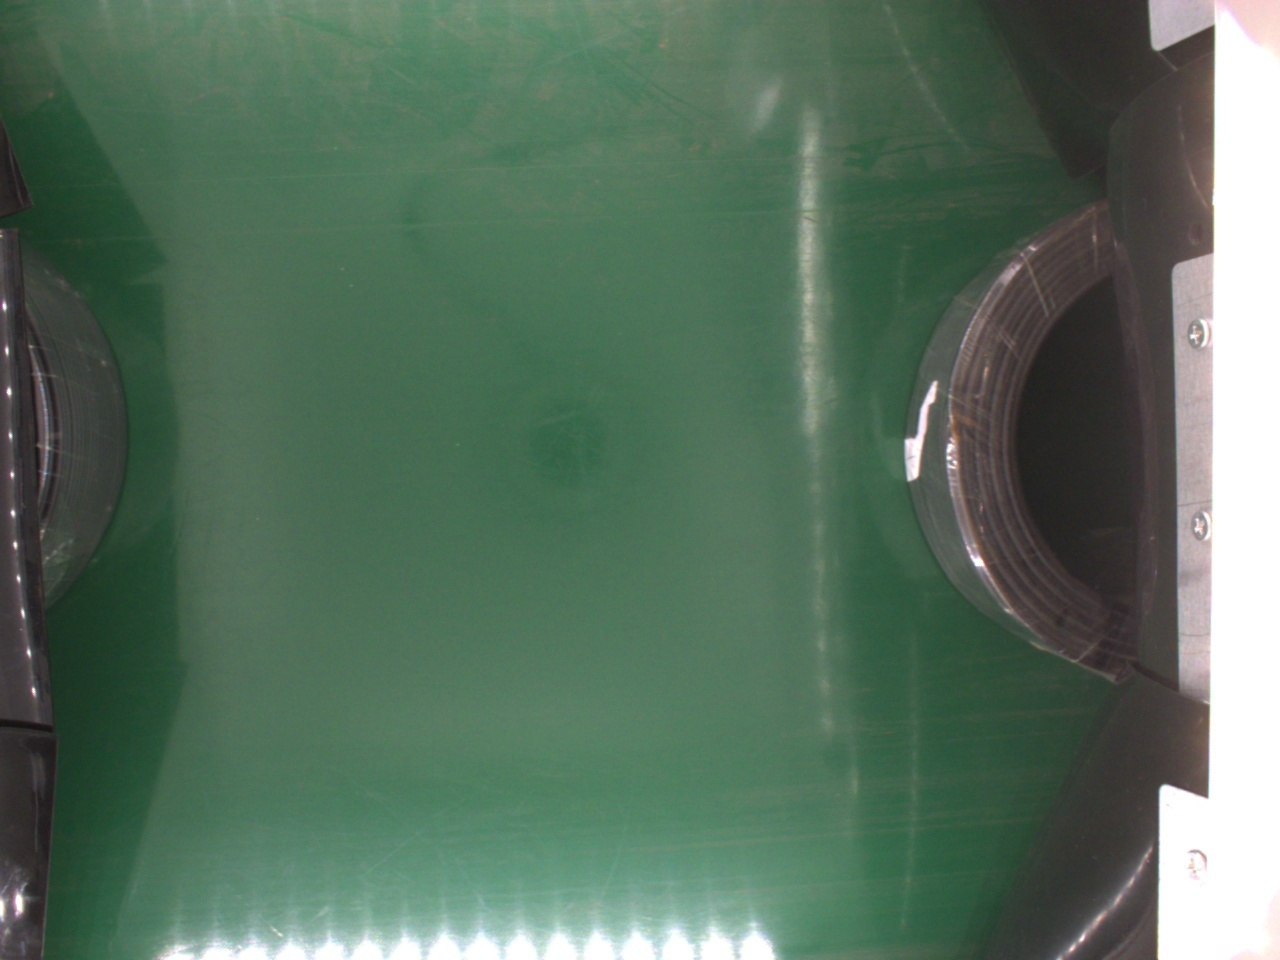black: (904, 202, 1143, 676), (22, 260, 130, 601)
